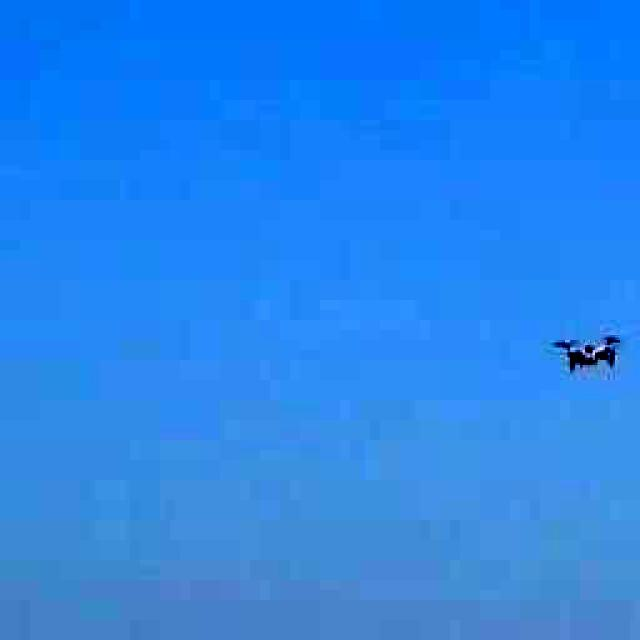bird: (542, 300, 632, 402)
